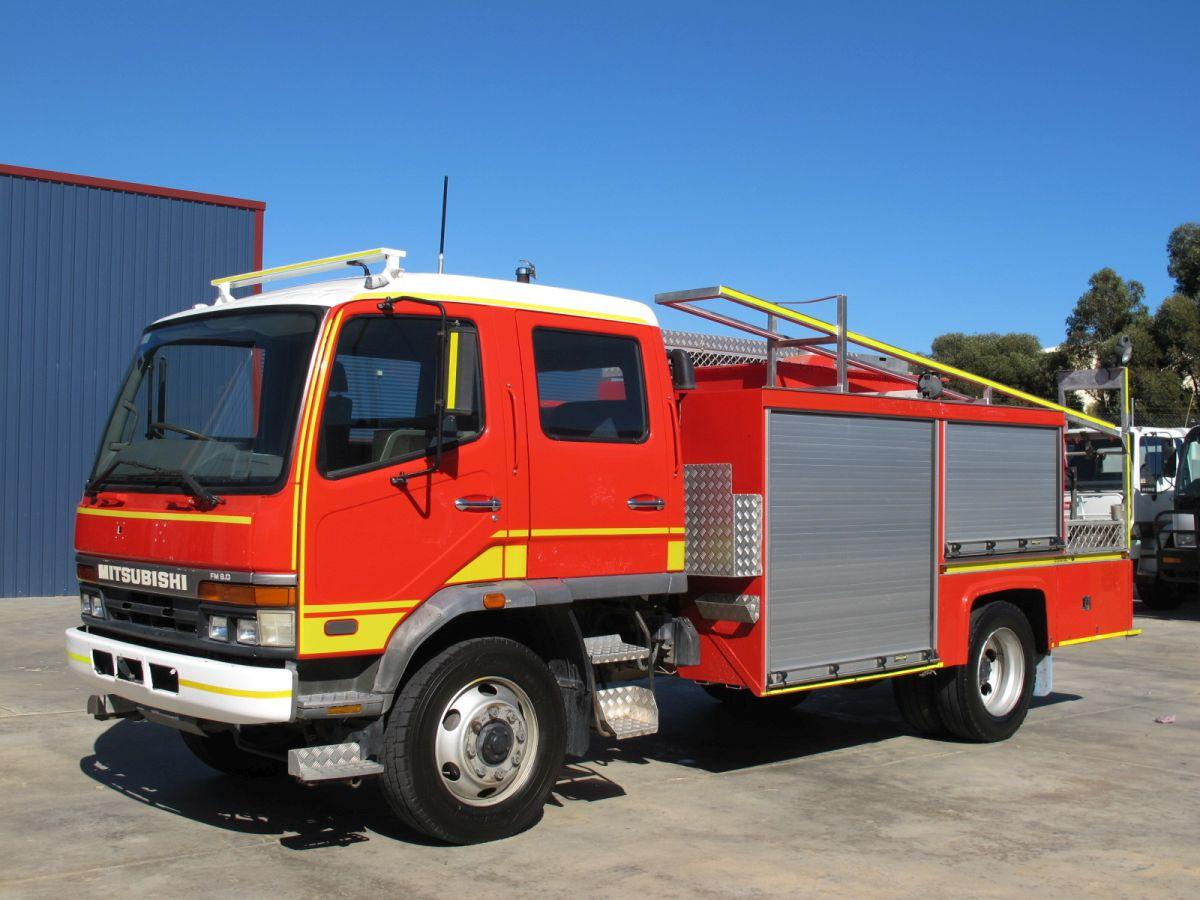Fire-engine: (63, 184, 1145, 846)
